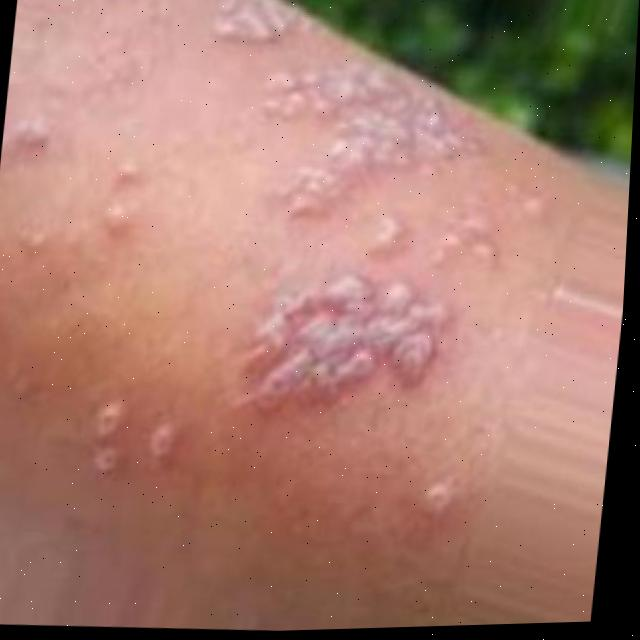Shingles: (175, 0, 498, 429), (80, 399, 176, 480)
